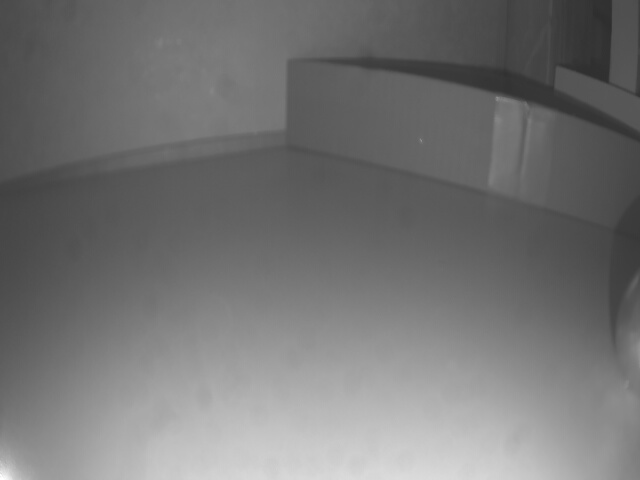Live: (605, 261, 640, 385)
Point: (278, 60, 640, 234)
